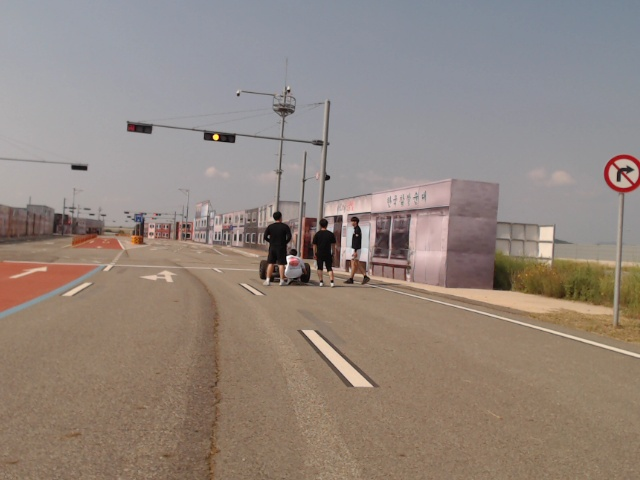orange_4: (202, 129, 237, 145)
